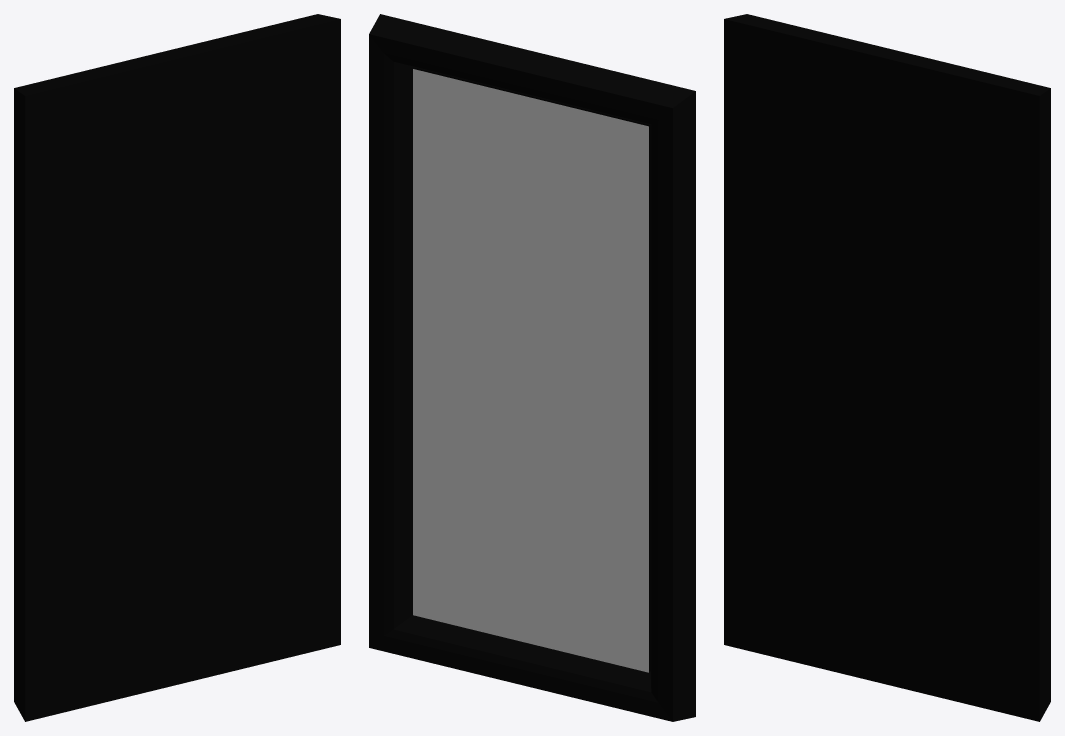
File: picture_frame_variant03.fbx
3 views of the same model, side by side, from view 1: azimuth 30°, elevation 25°; view 2: azimuth 150°, elevation 25°; view 3: azimuth 330°, elevation 25° (orthographic).
Visible parts, largest first — view 1: picture_frame_portrait_b_custom__7_.002; view 2: picture_frame_portrait_b_custom__7_.002; view 3: picture_frame_portrait_b_custom__7_.002.
Part boxes in pixels (box(x1,y1,x2,y2)): picture_frame_portrait_b_custom__7_.002: box(14, 14, 340, 721); picture_frame_portrait_b_custom__7_.002: box(369, 14, 695, 721); picture_frame_portrait_b_custom__7_.002: box(724, 14, 1050, 721).
Bounding box in the file's own units: 57.29 × 109 × 5.38.
